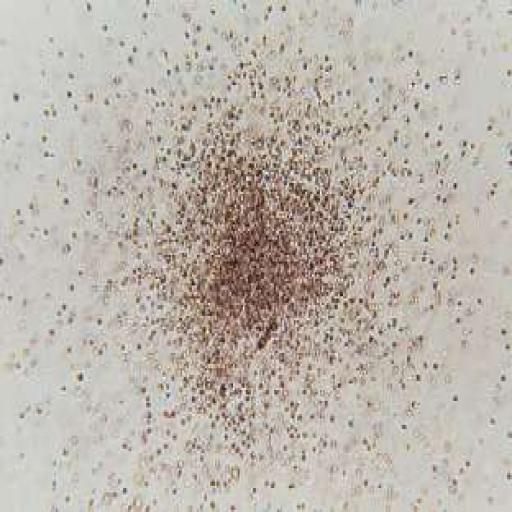CFU-GM: (103, 41, 386, 466)
